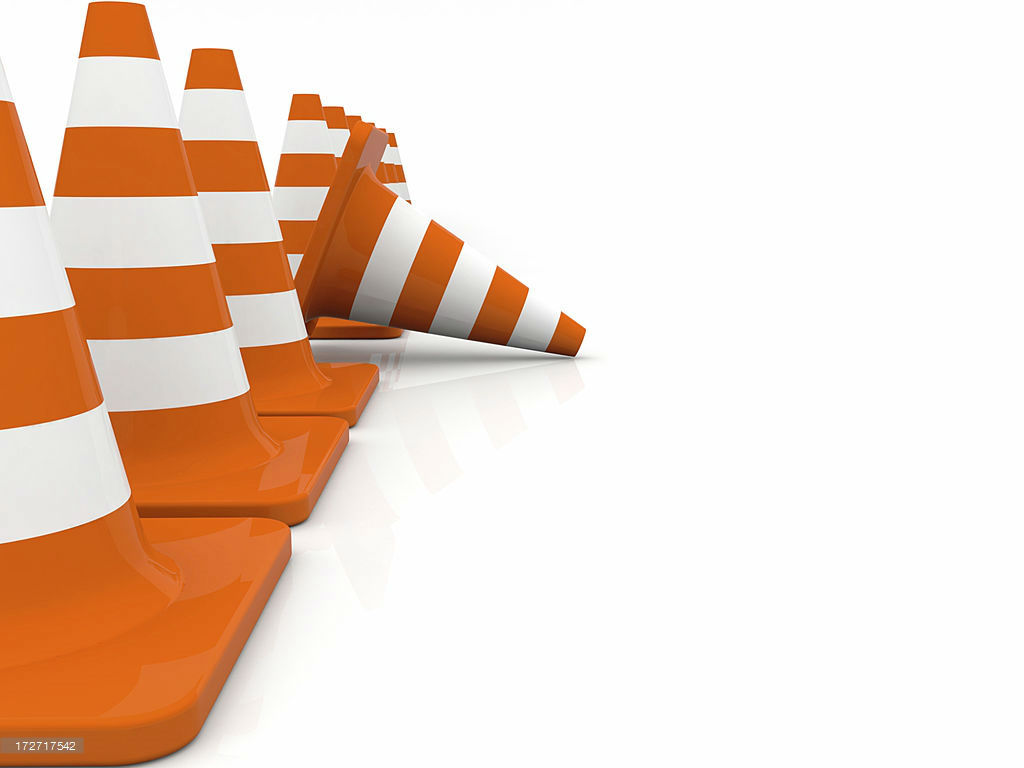trafficcone: (1, 54, 291, 766), (49, 1, 350, 527), (180, 48, 379, 427), (295, 121, 585, 357)
